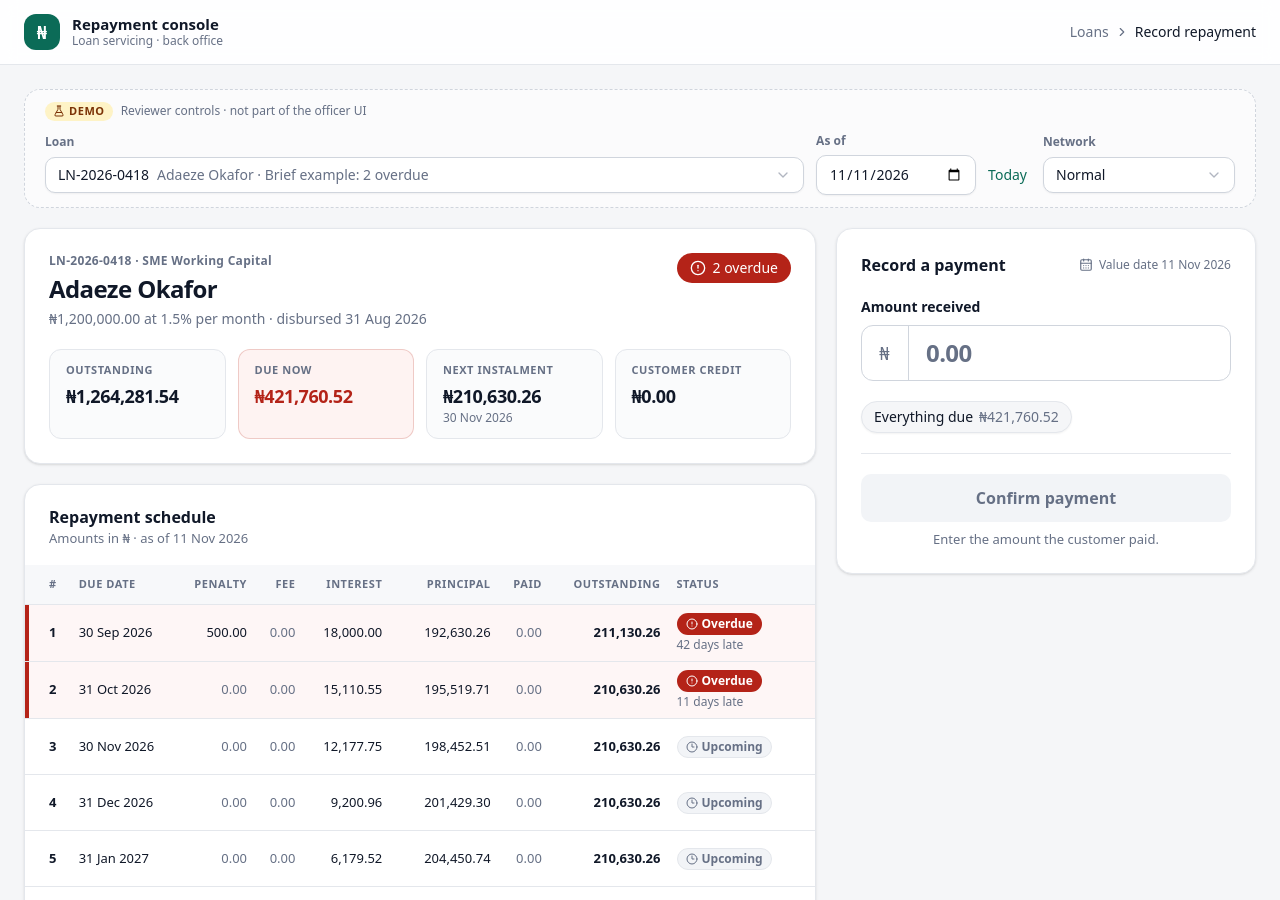
Test case: Repayment console: the brief's example › previews ₦250,000.00 exactly as the brief does, then posts it
This screenshot has width=1280, height=900.
Later steps or results of the test are not shown.
Expected: the heading "Adaeze Okafor" is shown, x1=49 y1=272 x2=217 y2=305
Type "250000" into the field labelled "Amount received" at (1046, 353), box x1=861 y1=325 x2=1231 y2=381
(page scrolled)
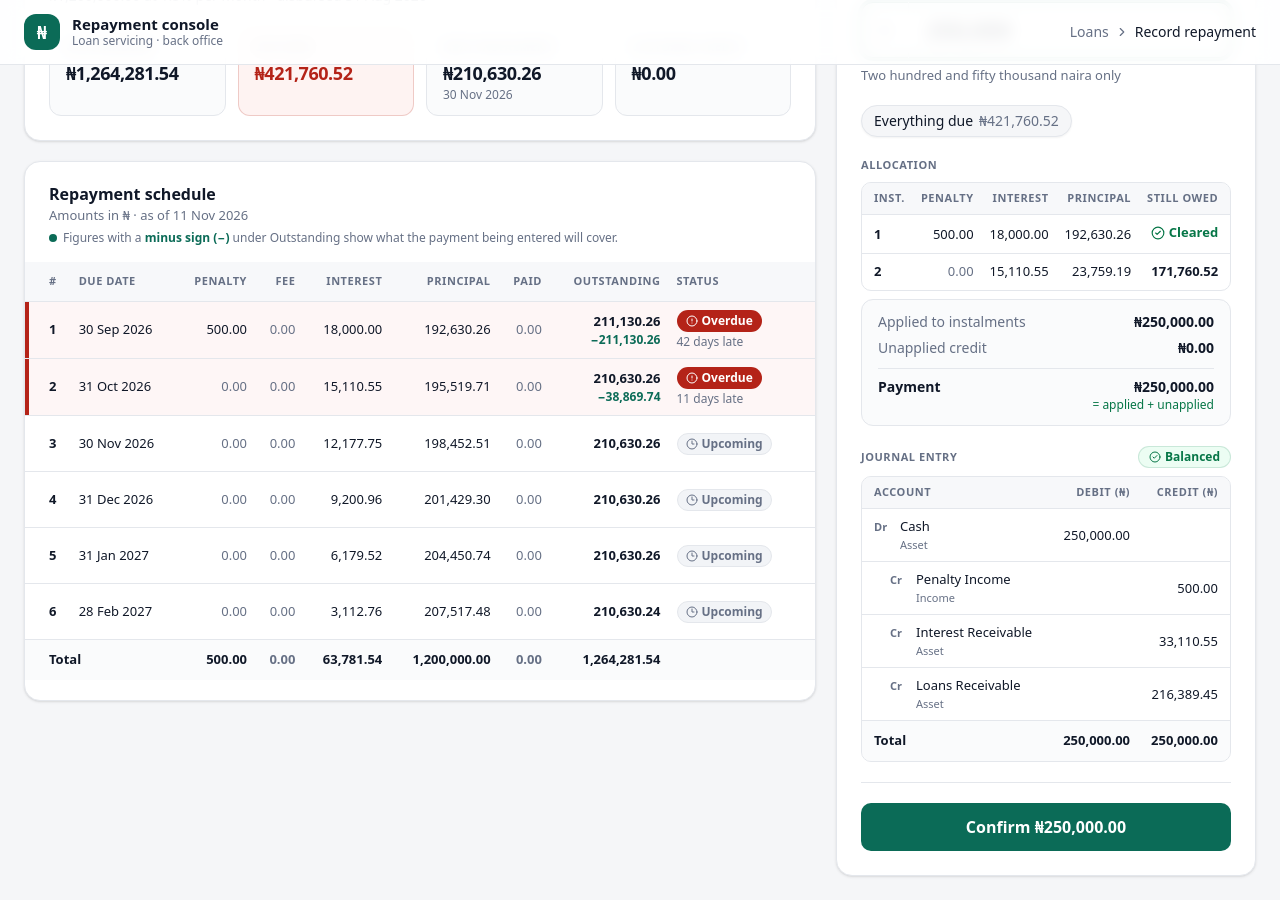
Result: the text with test id "amount-words" reads "Two hundred and fifty thousand naira only" at x1=861 y1=66 x2=1121 y2=84
Result: the text "₦0.00" in the row of "Unapplied credit" is shown at x1=1178 y1=338 x2=1214 y2=357
Result: the element with test id "balance-indicator" reads "Balanced" at x1=1165 y1=448 x2=1220 y2=465
